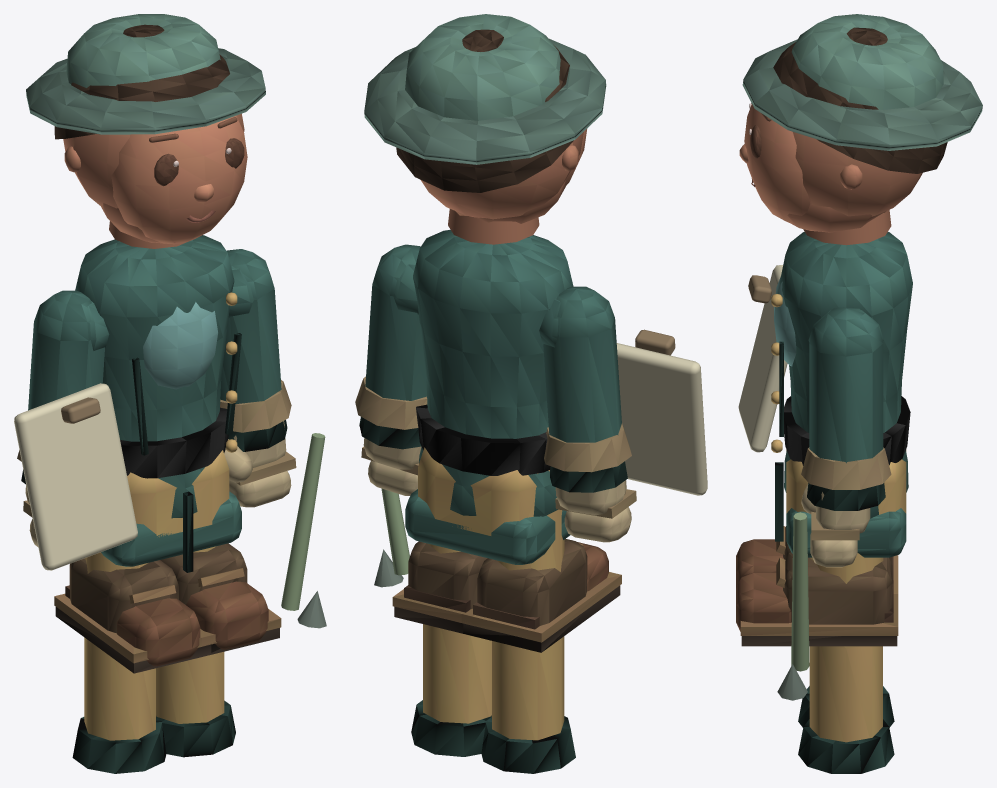
Rendered from park-yuna.glb.
3 views of the same model, side by side, from view 1: azimuth 30°, elevation 25°; view 2: azimuth 150°, elevation 25°; view 3: azimuth 270°, elevation 25° (orthographic).
Parts seen in each view (by area): view 1: legs, coat, figureDetail, hat, fieldClipboard, armRightMesh, armLeftMesh, handRightMesh, trousers, soilProbe, clipboardClip, soilProbeTip (+1 smaller); view 2: coat, legs, hat, armLeftMesh, fieldClipboard, figureDetail, armRightMesh, handLeftMesh, trousers, handRightMesh, neck, soilProbe (+2 smaller); view 3: legs, hat, coat, figureDetail, armRightMesh, handRightMesh, fieldClipboard, trousers, soilProbe, neck, soilProbeTip, clipboardClip.
Boxes of the visible parts, x1,y1,x2,y2 form: legs: [54, 543, 281, 773]; coat: [75, 235, 241, 566]; figureDetail: [54, 24, 247, 244]; hat: [26, 14, 265, 134]; fieldClipboard: [14, 383, 137, 570]; armRightMesh: [220, 249, 287, 451]; armLeftMesh: [21, 290, 109, 484]; handRightMesh: [220, 380, 296, 507]; trousers: [127, 450, 229, 572]; soilProbe: [281, 433, 325, 610]; clipboardClip: [61, 397, 100, 423]; soilProbeTip: [297, 591, 326, 628]; coat: [405, 229, 573, 564]; legs: [392, 470, 621, 773]; hat: [364, 14, 606, 164]; armLeftMesh: [539, 286, 627, 492]; fieldClipboard: [616, 343, 707, 495]; figureDetail: [396, 29, 586, 223]; armRightMesh: [359, 244, 426, 449]; handLeftMesh: [544, 423, 636, 542]; trousers: [418, 447, 536, 535]; handRightMesh: [355, 376, 427, 495]; neck: [448, 209, 539, 244]; soilProbe: [381, 488, 409, 575]; legs: [736, 526, 898, 773]; hat: [742, 14, 982, 150]; coat: [771, 232, 912, 557]; figureDetail: [739, 27, 947, 232]; armRightMesh: [807, 307, 885, 510]; handRightMesh: [801, 447, 891, 567]; fieldClipboard: [738, 265, 787, 452]; trousers: [775, 449, 906, 541]; soilProbe: [791, 512, 809, 671]; neck: [803, 209, 891, 245]; soilProbeTip: [777, 664, 807, 700]; clipboardClip: [748, 275, 771, 303].
Bounding box in the file's own units: 0.9552 × 2.08 × 0.6449.
